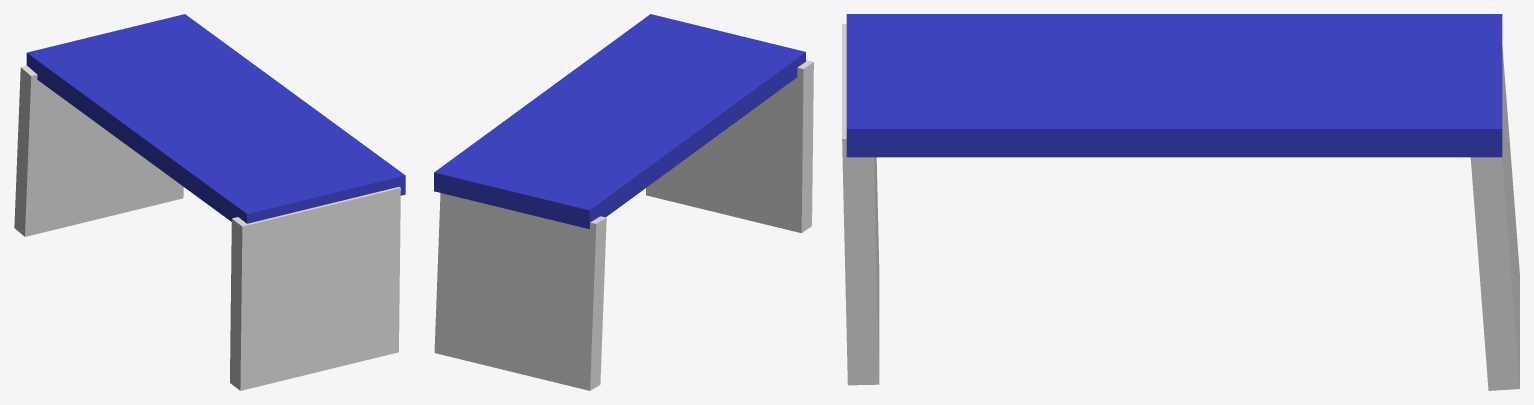
Rendered from table.dae.
The picture shows the model from 3 angles, left to right: view 1: azimuth 30°, elevation 25°; view 2: azimuth 150°, elevation 25°; view 3: azimuth 270°, elevation 25°; orthographic projection. The views are drawn at different scales.
Visible parts, largest first — view 1: Cube, Cube_002, Cube_001; view 2: Cube, Cube_001, Cube_002; view 3: Cube, Cube_001, Cube_002.
Part boxes in pixels (x1,y1,x2,y2): Cube: (26,14,405,223); Cube_002: (230,187,400,390); Cube_001: (14,65,183,236); Cube: (434,14,805,229); Cube_001: (434,193,606,390); Cube_002: (646,60,813,233); Cube: (846,14,1502,157); Cube_001: (1470,47,1519,390); Cube_002: (842,24,879,385).
Bounding box in the file's own units: 2.08 × 4.98 × 2.16.
